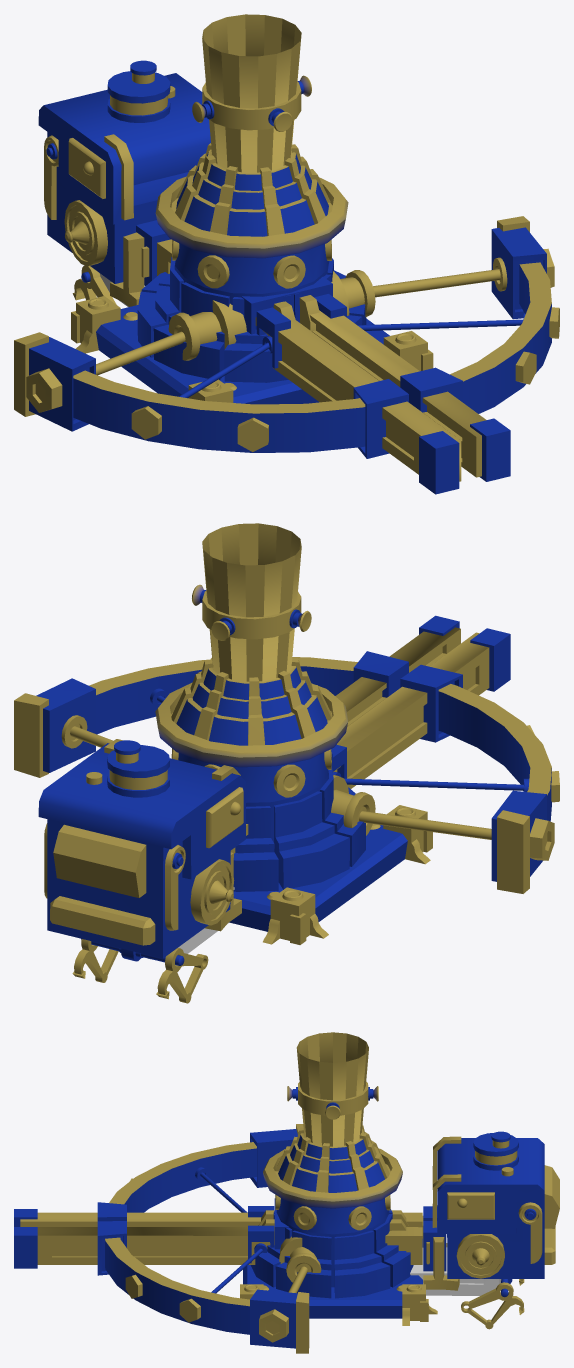
Rendered from tower_crossbow.fbx.
3 views of the same model, one above another, from view 1: azimuth 30°, elevation 25°; view 2: azimuth 150°, elevation 25°; view 3: azimuth 270°, elevation 25° (orthographic). The views are drawn at different scales.
Visible parts, largest first — view 1: tower_crossbow_head, tower_crossbow, tower_crossbow_emissionPart_2, tower_crossbow_emissionPart_1; view 2: tower_crossbow_head, tower_crossbow, tower_crossbow_emissionPart_1, tower_crossbow_emissionPart_2; view 3: tower_crossbow_head, tower_crossbow, tower_crossbow_emissionPart_2, tower_crossbow_emissionPart_1.
Part boxes in pixels (left/top/right/bottom): tower_crossbow_head: left=14, top=60, right=559, bottom=494; tower_crossbow: left=71, top=14, right=433, bottom=404; tower_crossbow_emissionPart_2: left=48, top=141, right=543, bottom=457; tower_crossbow_emissionPart_1: left=92, top=14, right=411, bottom=387; tower_crossbow_head: left=14, top=615, right=559, bottom=1003; tower_crossbow: left=155, top=523, right=432, bottom=944; tower_crossbow_emissionPart_1: left=202, top=523, right=411, bottom=896; tower_crossbow_emissionPart_2: left=69, top=647, right=524, bottom=920; tower_crossbow_head: left=14, top=1124, right=559, bottom=1353; tower_crossbow: left=240, top=1032, right=437, bottom=1325; tower_crossbow_emissionPart_2: left=41, top=1171, right=538, bottom=1293; tower_crossbow_emissionPart_1: left=247, top=1032, right=418, bottom=1289.
Size of the model in its own units: 75.62 by 51.57 by 96.08.
